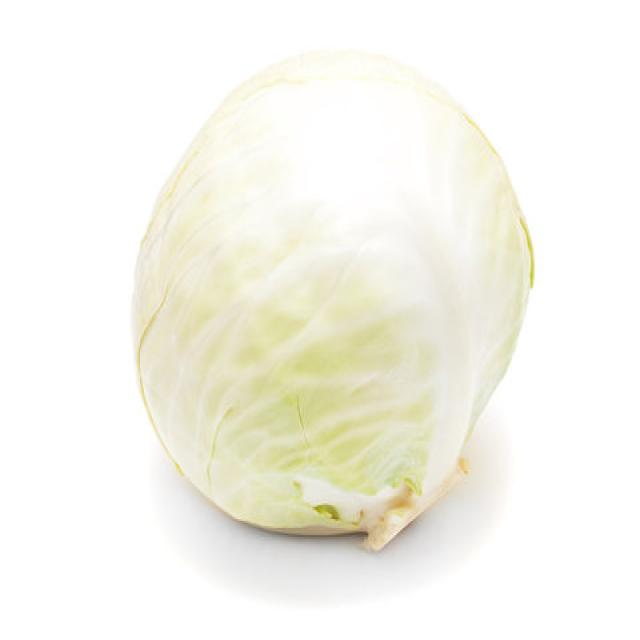Cabbage: (129, 45, 535, 551)
